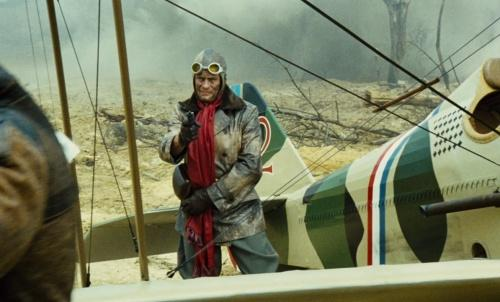Gun: (186, 110, 197, 127)
